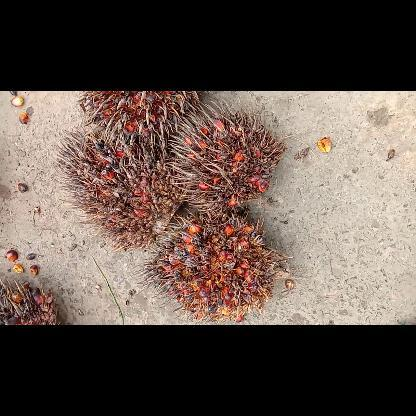Terlalu masak: (131, 204, 292, 324), (52, 117, 190, 256), (165, 101, 287, 221), (75, 91, 209, 147)
